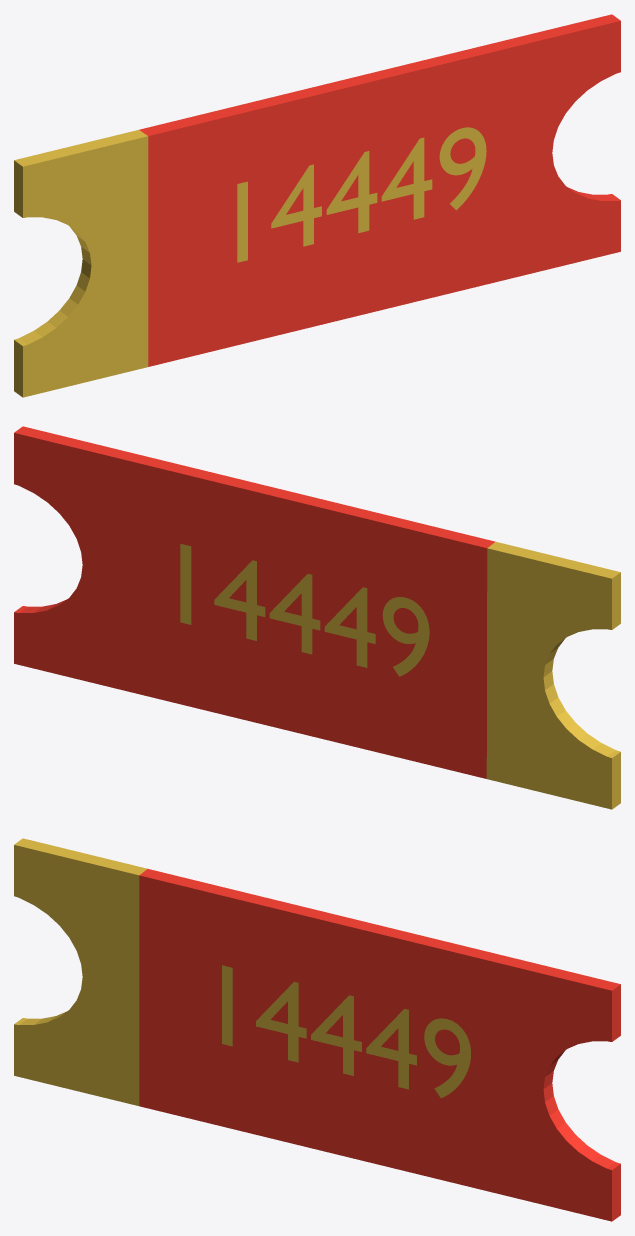
Rendered from foodcoupon1.glb.
3 views of the same model, one above another, from view 1: azimuth 30°, elevation 25°; view 2: azimuth 150°, elevation 25°; view 3: azimuth 330°, elevation 25° (orthographic).
Parts seen in each view (by area): view 1: Text.010; view 2: Text.010; view 3: Text.010.
Boxes of the visible parts, x1,y1,x2,y2 form: Text.010: (14, 14, 620, 397); Text.010: (14, 426, 620, 809); Text.010: (14, 838, 620, 1221).
Size of the model in its own units: 5.42 by 2 by 0.2516.
